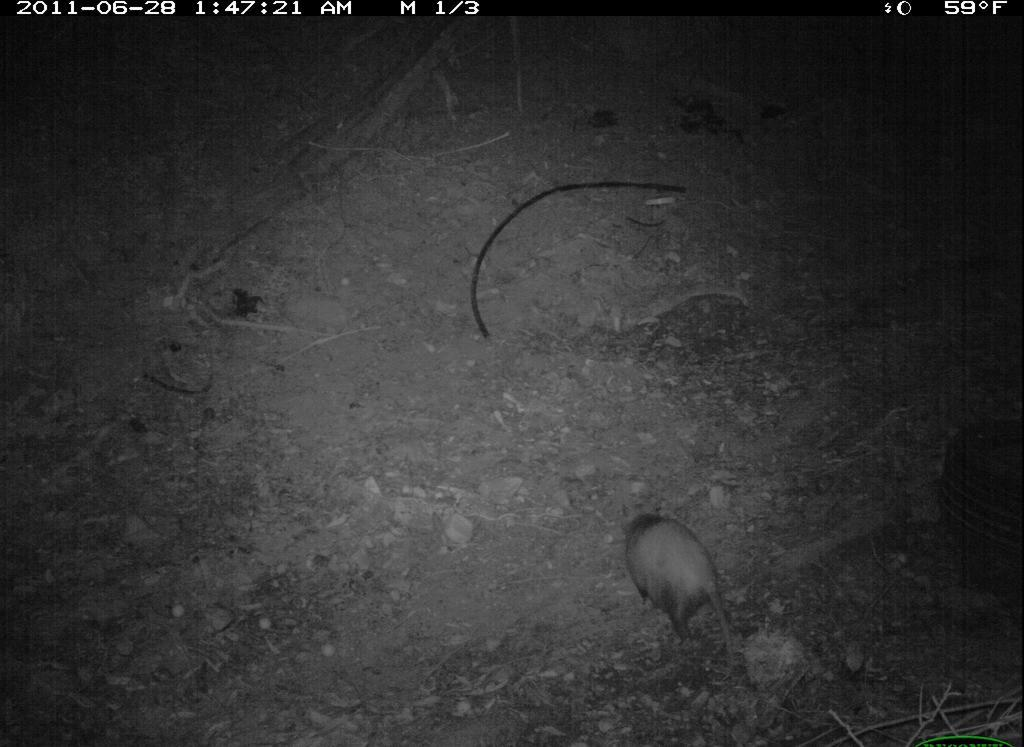opossum: (614, 488, 751, 688)
